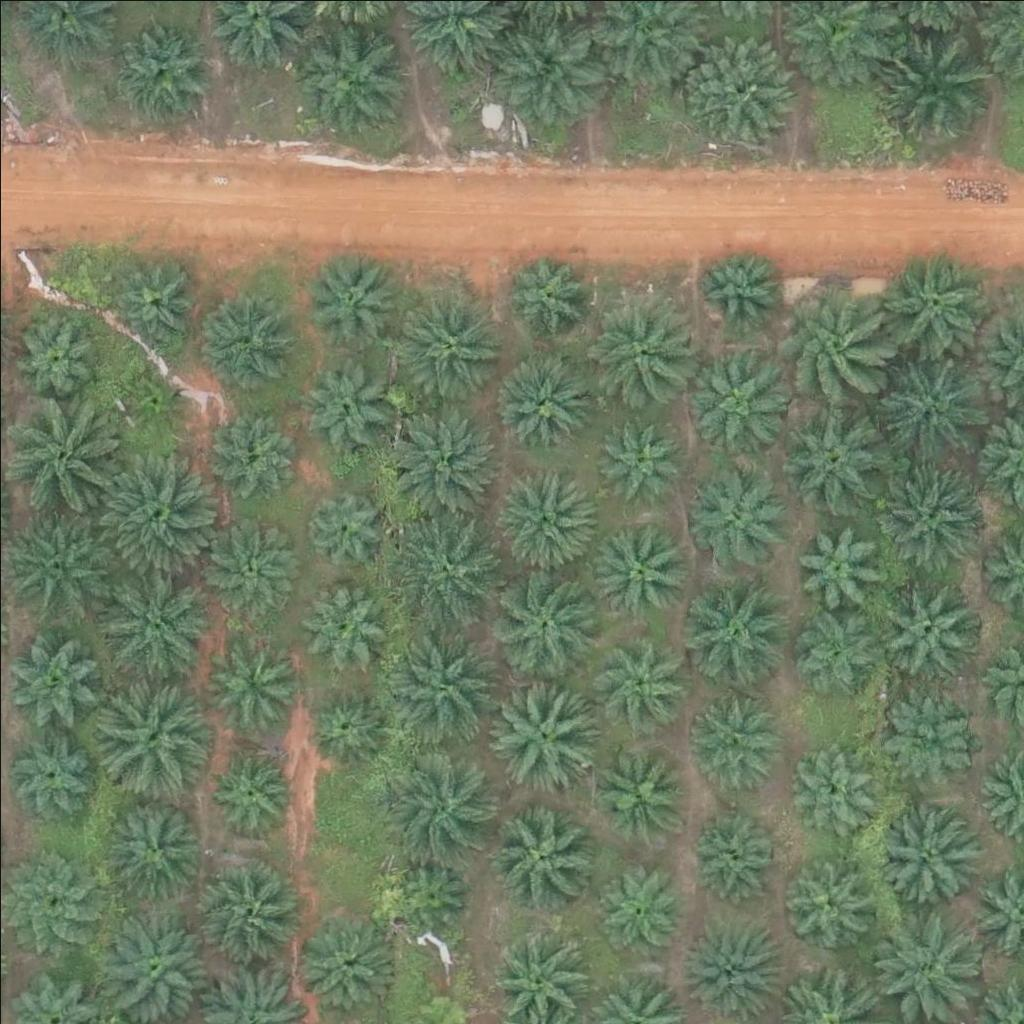Kelapa_Sawit: (767, 276, 892, 402), (293, 23, 406, 137), (4, 400, 117, 514), (95, 905, 208, 1019), (381, 628, 494, 742), (484, 800, 597, 914), (682, 28, 795, 141), (95, 687, 208, 800), (491, 673, 604, 786), (875, 452, 988, 565), (875, 351, 988, 464), (879, 244, 992, 357), (394, 287, 506, 401), (871, 903, 983, 1017), (492, 8, 604, 121), (873, 31, 985, 144), (2, 508, 114, 621), (97, 566, 209, 679), (100, 455, 212, 568), (379, 750, 491, 863), (391, 510, 503, 623), (383, 398, 495, 511), (489, 566, 601, 679), (579, 292, 691, 405), (780, 400, 892, 513), (111, 18, 211, 119), (3, 305, 103, 406), (8, 625, 108, 726), (102, 798, 202, 899), (189, 858, 289, 959), (195, 287, 295, 388), (288, 917, 388, 1018), (301, 243, 401, 344), (490, 352, 590, 453), (587, 744, 687, 845), (585, 627, 685, 728), (589, 516, 689, 617), (684, 695, 784, 796), (685, 576, 785, 677), (688, 467, 788, 568), (776, 855, 876, 956), (876, 800, 976, 901), (872, 571, 972, 672), (491, 470, 591, 570), (685, 914, 785, 1014), (683, 345, 783, 445), (880, 689, 980, 789), (596, 858, 684, 947), (11, 846, 99, 934), (206, 525, 294, 613), (297, 574, 385, 662), (301, 480, 389, 568), (383, 845, 471, 933), (491, 930, 579, 1018), (501, 242, 589, 330), (691, 815, 779, 903), (110, 258, 197, 347), (206, 743, 293, 832), (590, 413, 677, 502), (5, 731, 92, 819), (202, 629, 289, 717), (209, 409, 296, 497), (303, 677, 390, 765), (302, 363, 389, 451), (695, 242, 782, 330), (791, 747, 878, 835), (791, 606, 878, 694), (794, 518, 881, 606), (118, 366, 181, 429)
